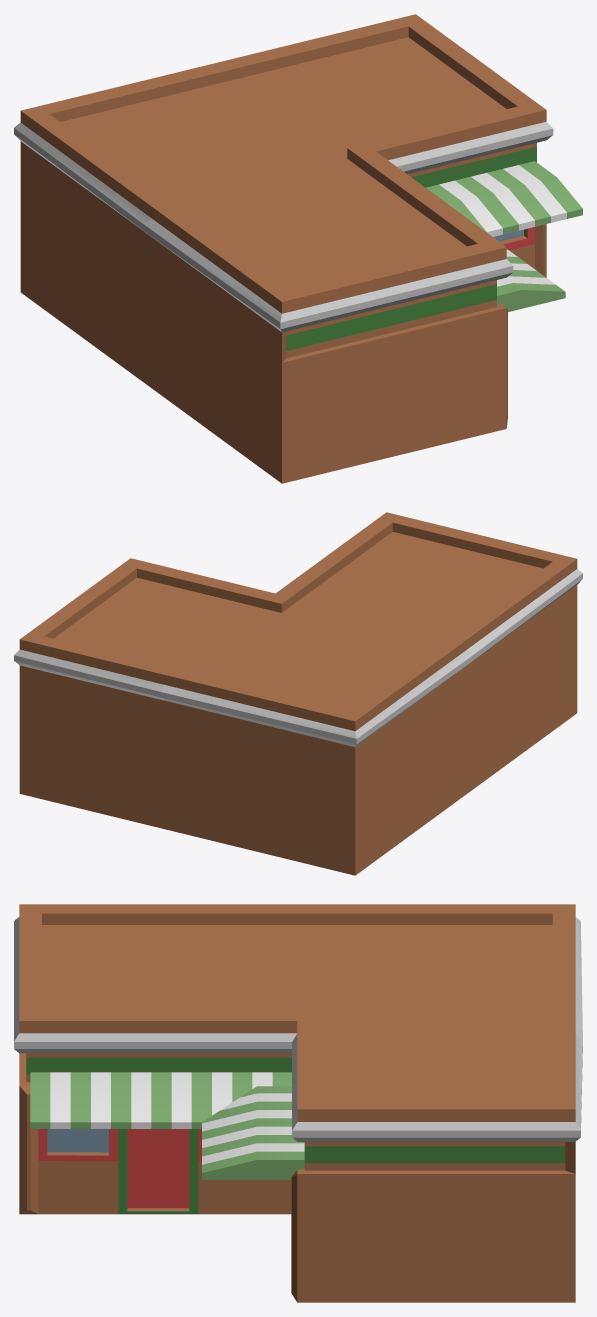
Rendered from cafe_2.fbx.
3 renders of one model, top to bottom at view 1: azimuth 30°, elevation 25°; view 2: azimuth 150°, elevation 25°; view 3: azimuth 270°, elevation 25°, orthographic. The views are drawn at different scales.
Parts seen in each view (by area): view 1: cafe_2; view 2: cafe_2; view 3: cafe_2.
Boxes of the visible parts, <box> form: cafe_2: <box>14,14,582,483</box>; cafe_2: <box>14,512,582,875</box>; cafe_2: <box>14,904,582,1302</box>.
Size of the model in its own units: 350 by 150 by 400.
